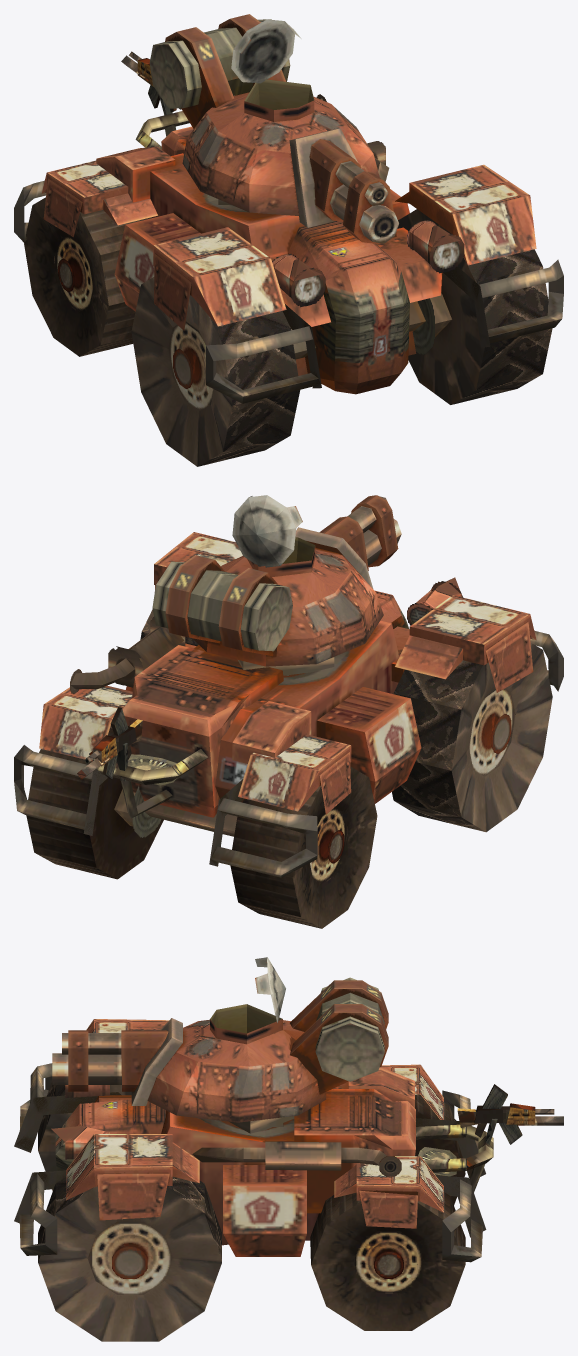
The model's file is C1SMVTLTNKM.obj.
The picture shows the model from 3 angles, top to bottom: view 1: azimuth 30°, elevation 25°; view 2: azimuth 150°, elevation 25°; view 3: azimuth 270°, elevation 25°; orthographic projection. The views are drawn at different scales.
Parts seen in each view (by area): view 1: Node 0; view 2: Node 0; view 3: Node 0.
Boxes of the visible parts, <box> form: Node 0: <box>14,14,563,466</box>; Node 0: <box>14,495,563,928</box>; Node 0: <box>14,957,563,1341</box>.
Size of the model in its own units: 4.62 by 4.31 by 6.87.
5 materials, 5 textured.
